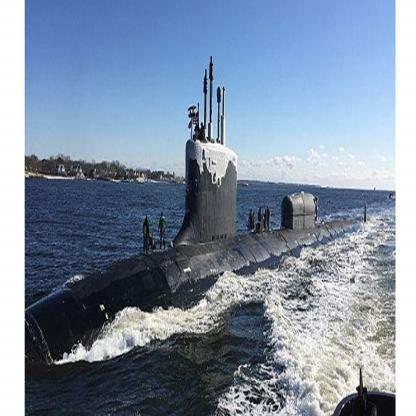Submarine: (26, 54, 366, 363)
